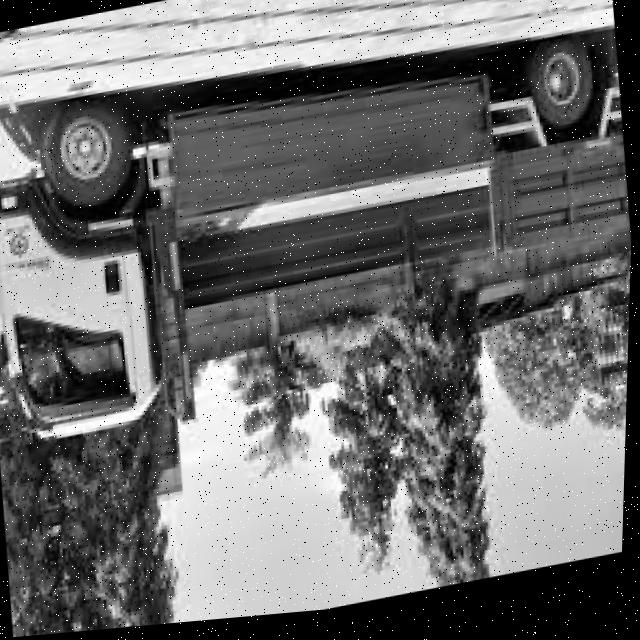truck: (1, 77, 188, 478)
